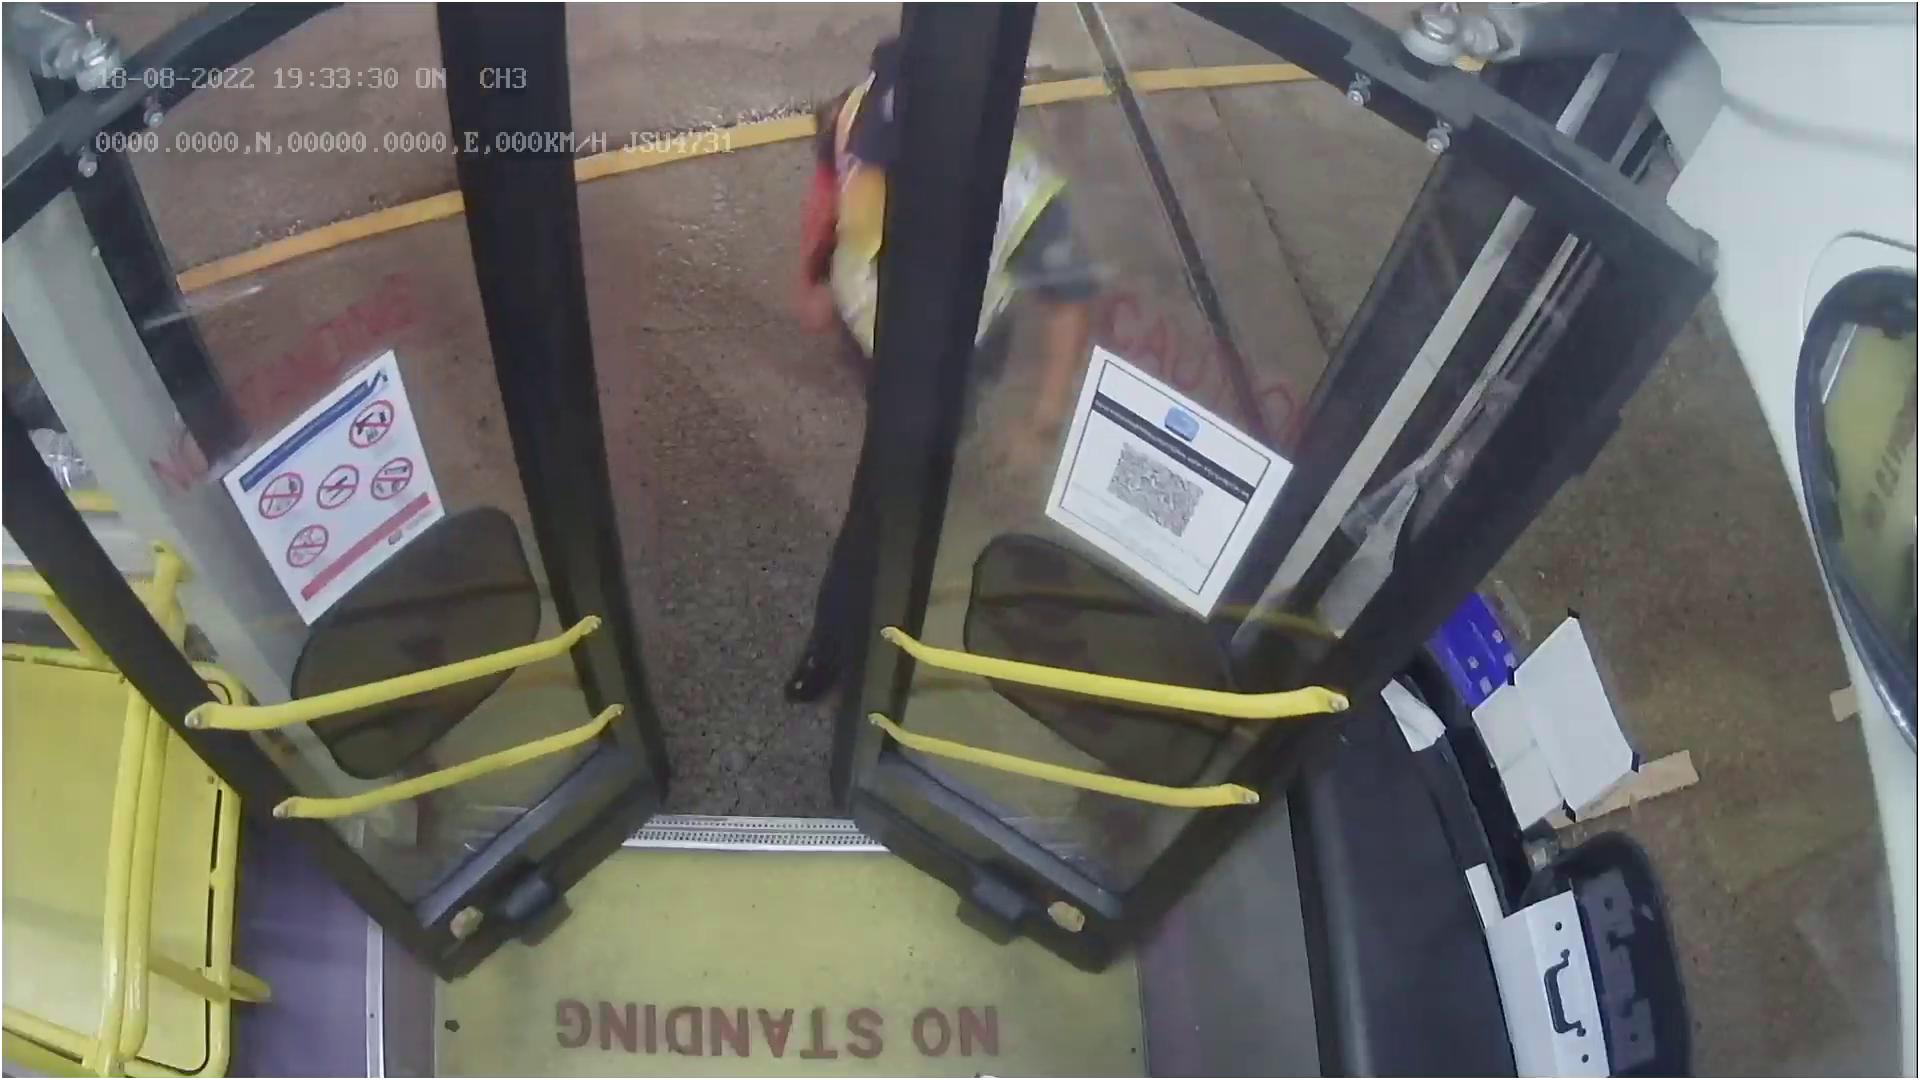open: (112, 0, 1461, 207)
